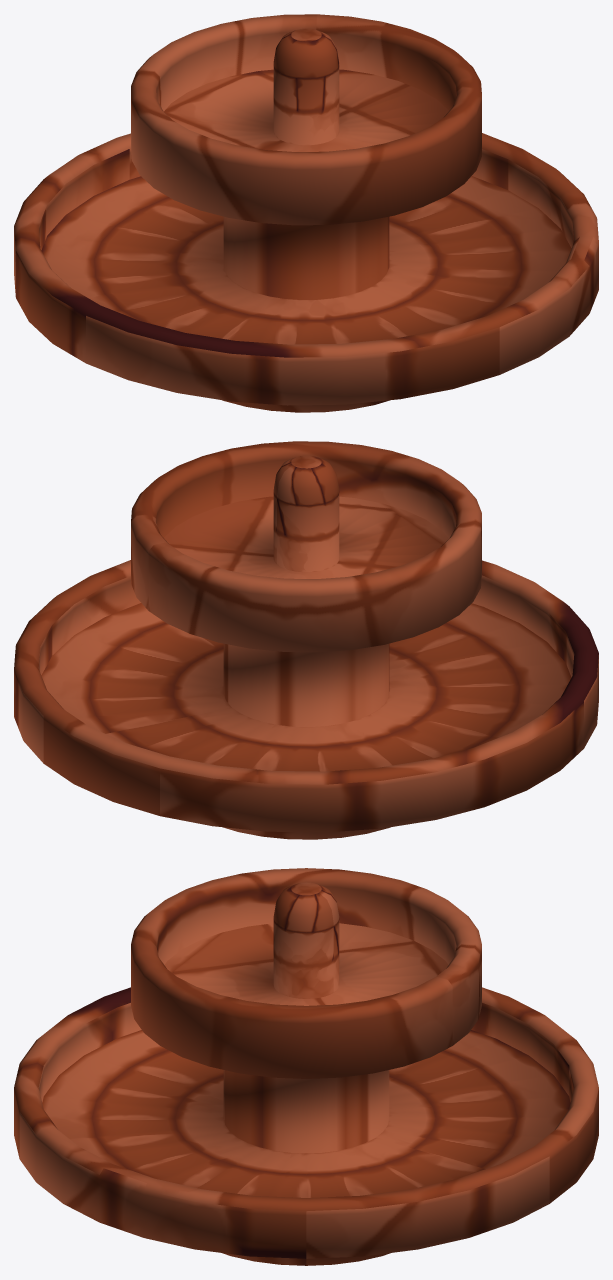
The model's file is fountain_01.gltf.
3 renders of one model, top to bottom at view 1: azimuth 30°, elevation 25°; view 2: azimuth 150°, elevation 25°; view 3: azimuth 270°, elevation 25°, orthographic.
Parts seen in each view (by area): view 1: fountain<trimesh>; view 2: fountain<trimesh>; view 3: fountain<trimesh>.
Boxes of the visible parts, x1,y1,x2,y2 form: fountain<trimesh>: (14, 14, 598, 412); fountain<trimesh>: (14, 441, 598, 839); fountain<trimesh>: (14, 868, 598, 1265).
Size of the model in its own units: 8.58 by 5.16 by 8.58.
Materials: 1 (1 with a texture image).
